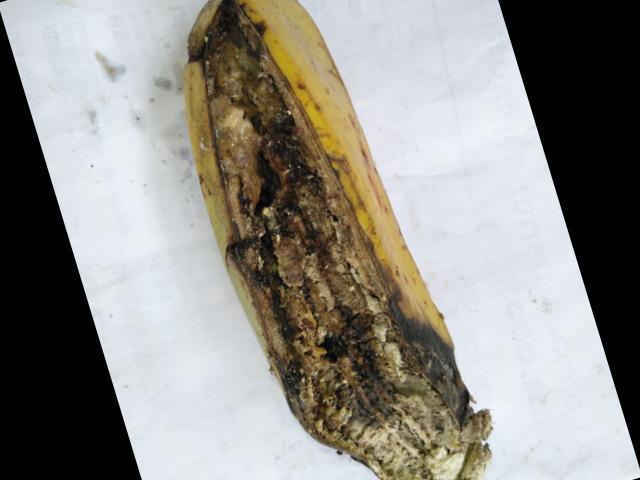rotten: (181, 20, 511, 479)
